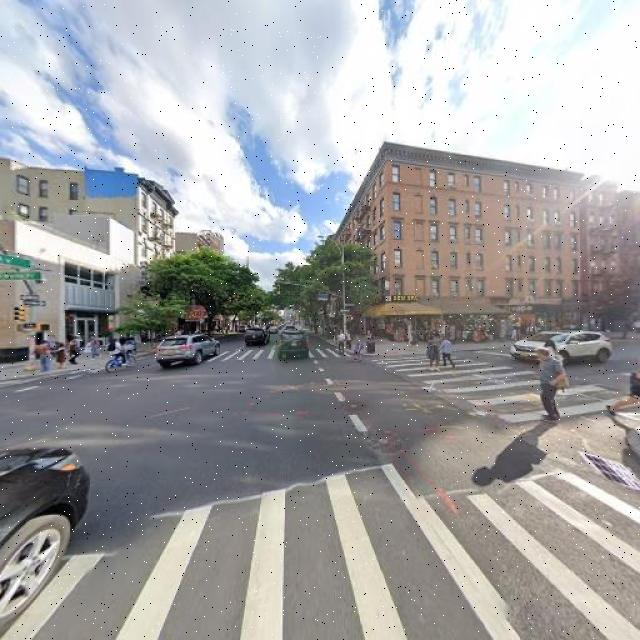Building: (327, 140, 575, 340), (1, 227, 122, 365)
